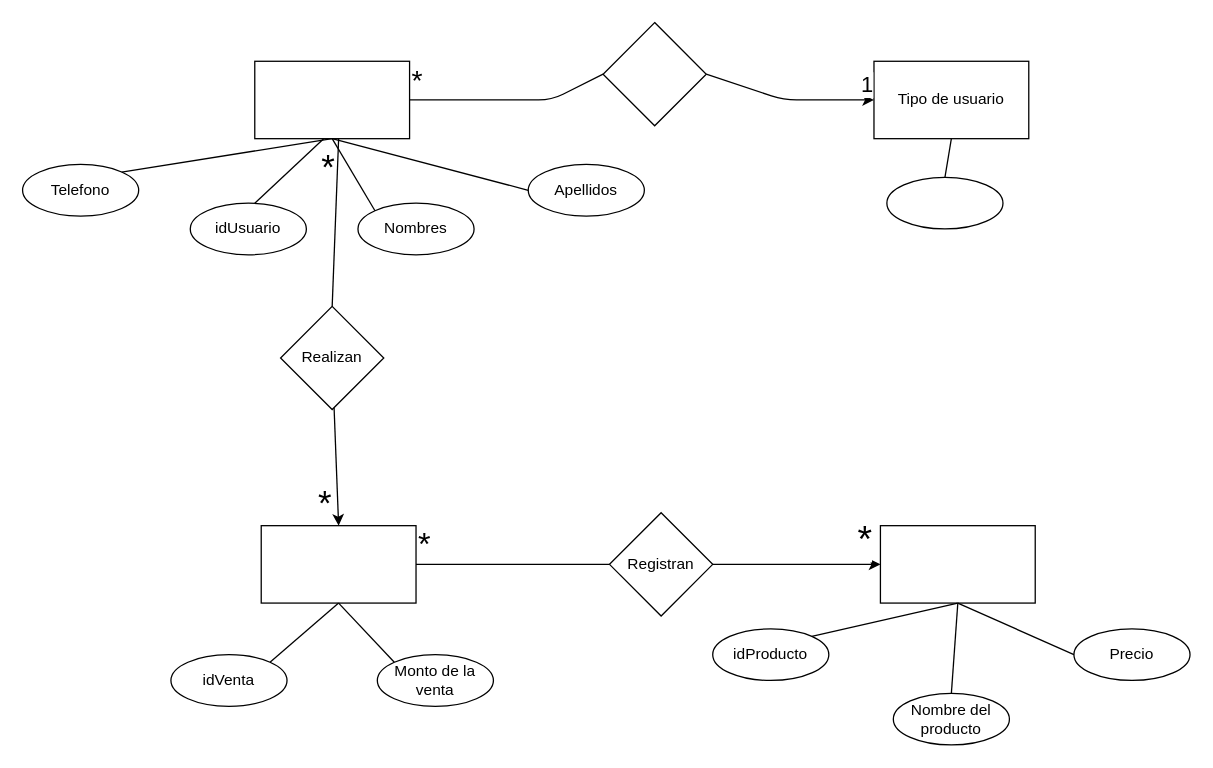
Image size: 1213x768. Some labels were removed from this diagram. Here are the shapes that lost their labels. From the top down, the centre of each, then its label:
At point 654,73: "Son de tipo".
At point 331,99: "Usuarios".
At point 944,202: "nombre".
At point 338,563: "Ventas".
At point 957,563: "Productos".
